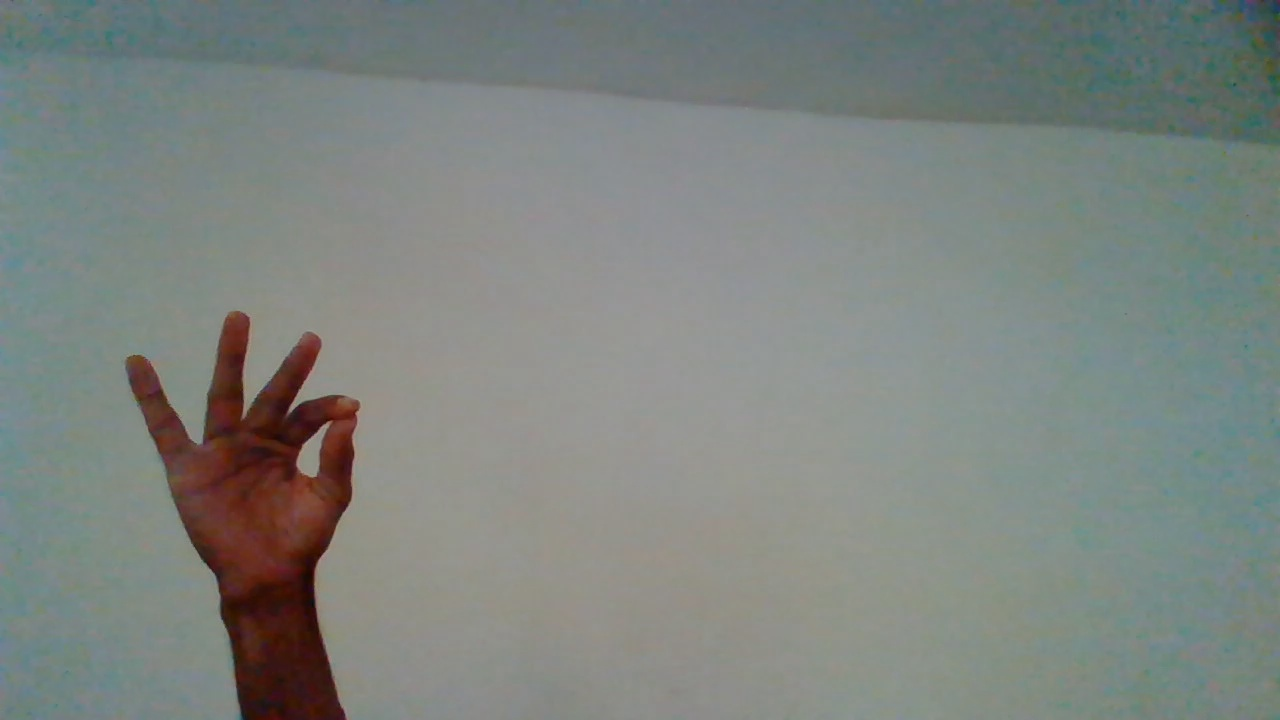le: (123, 305, 367, 715)
